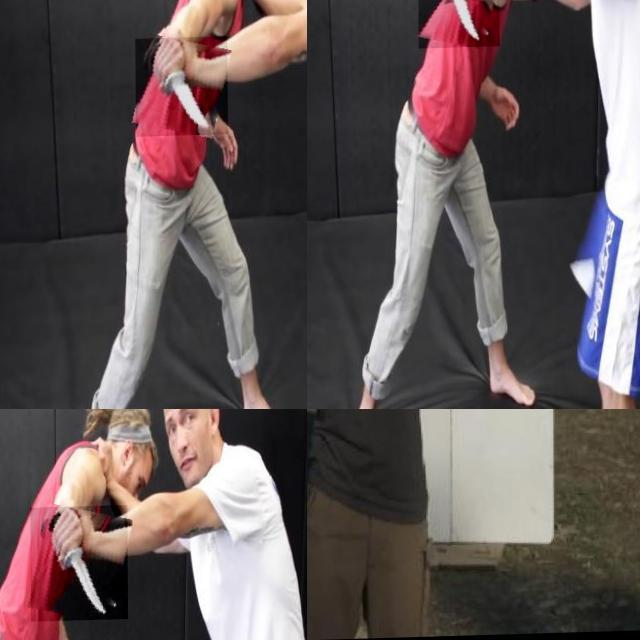-: (30, 507, 128, 623), (136, 38, 228, 138), (417, 0, 499, 54), (338, 409, 396, 482), (387, 409, 410, 508)
